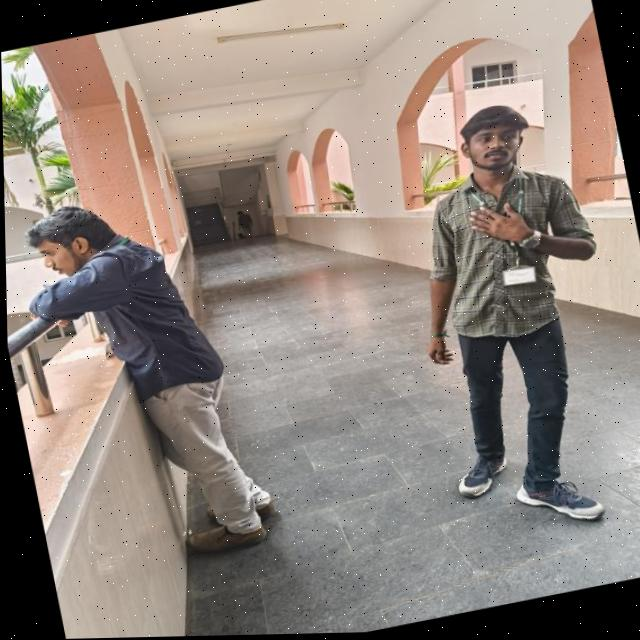id_card: (466, 180, 546, 291)
